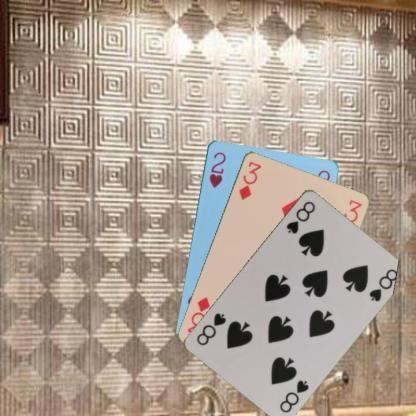2h: (206, 149, 227, 189)
3d: (236, 158, 263, 201)
8s: (276, 376, 310, 414), (283, 198, 317, 235)
